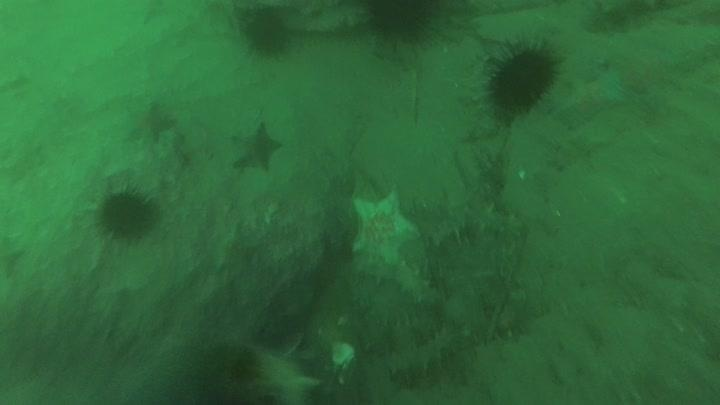echinus: (482, 37, 564, 117), (179, 338, 266, 404), (94, 183, 160, 244), (360, 1, 443, 47), (236, 4, 295, 59)
holothurian: (237, 333, 322, 405), (419, 197, 524, 248), (386, 320, 467, 384), (357, 297, 438, 361), (352, 250, 442, 307)
starfish: (346, 184, 422, 272), (554, 64, 632, 129), (228, 118, 286, 175), (122, 99, 177, 146)
